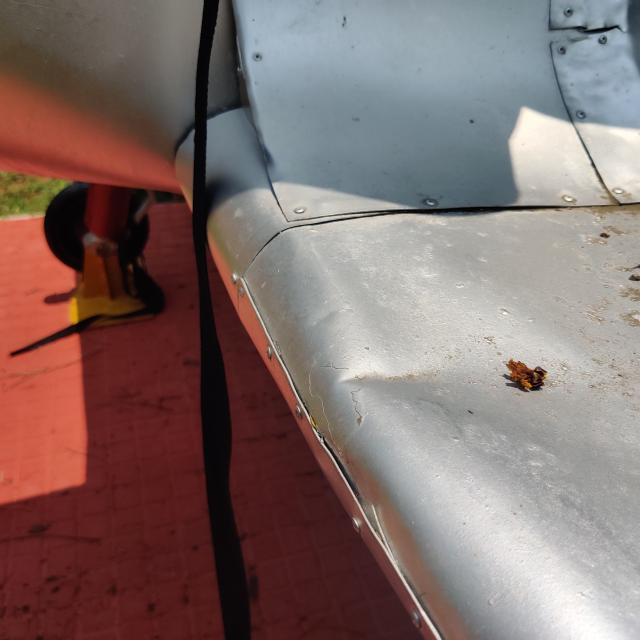crack: (546, 12, 636, 63)
dent: (332, 337, 454, 420)
